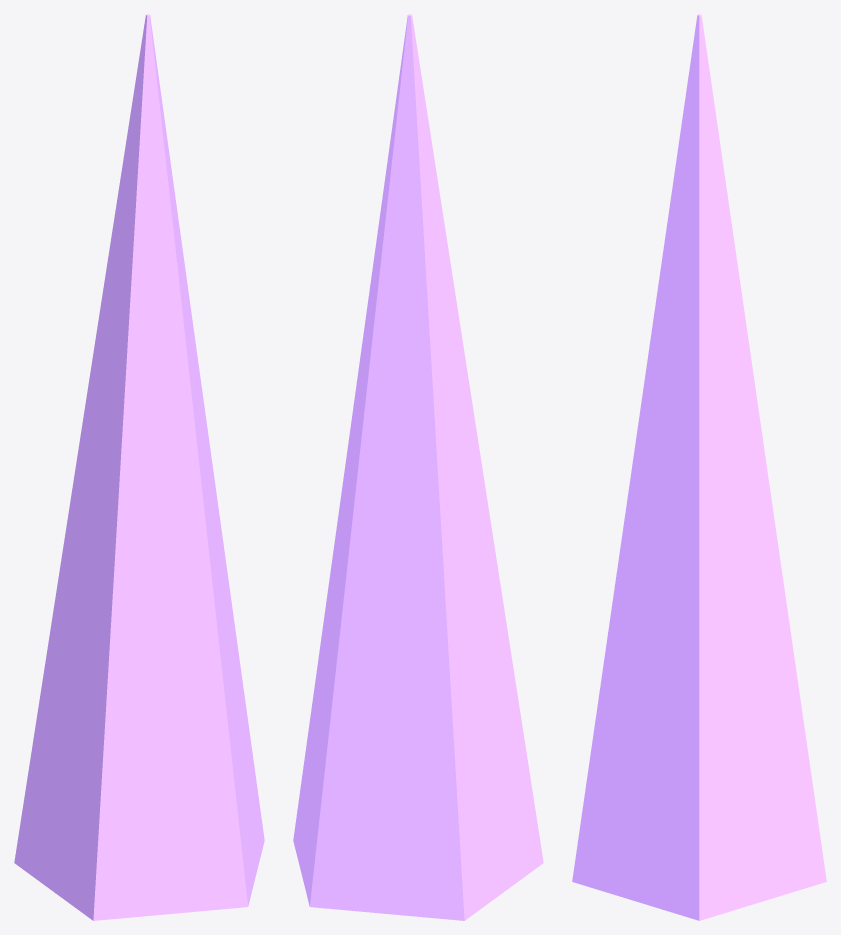
The model's file is Kit_VoidRift_Tree_LOD1.glb.
3 renders of one model, left to right at view 1: azimuth 30°, elevation 25°; view 2: azimuth 150°, elevation 25°; view 3: azimuth 270°, elevation 25°, orthographic.
Visible parts, largest first — view 1: Kit_VoidRift_Tree_LOD1_VoidRift_accent_-1_0; view 2: Kit_VoidRift_Tree_LOD1_VoidRift_accent_-1_0; view 3: Kit_VoidRift_Tree_LOD1_VoidRift_accent_-1_0.
Part boxes in pixels (<box>): Kit_VoidRift_Tree_LOD1_VoidRift_accent_-1_0: <box>14,14,264,920</box>; Kit_VoidRift_Tree_LOD1_VoidRift_accent_-1_0: <box>293,14,543,920</box>; Kit_VoidRift_Tree_LOD1_VoidRift_accent_-1_0: <box>572,14,826,920</box>.
Bounding box in the file's own units: 5.43 × 21 × 5.71.
